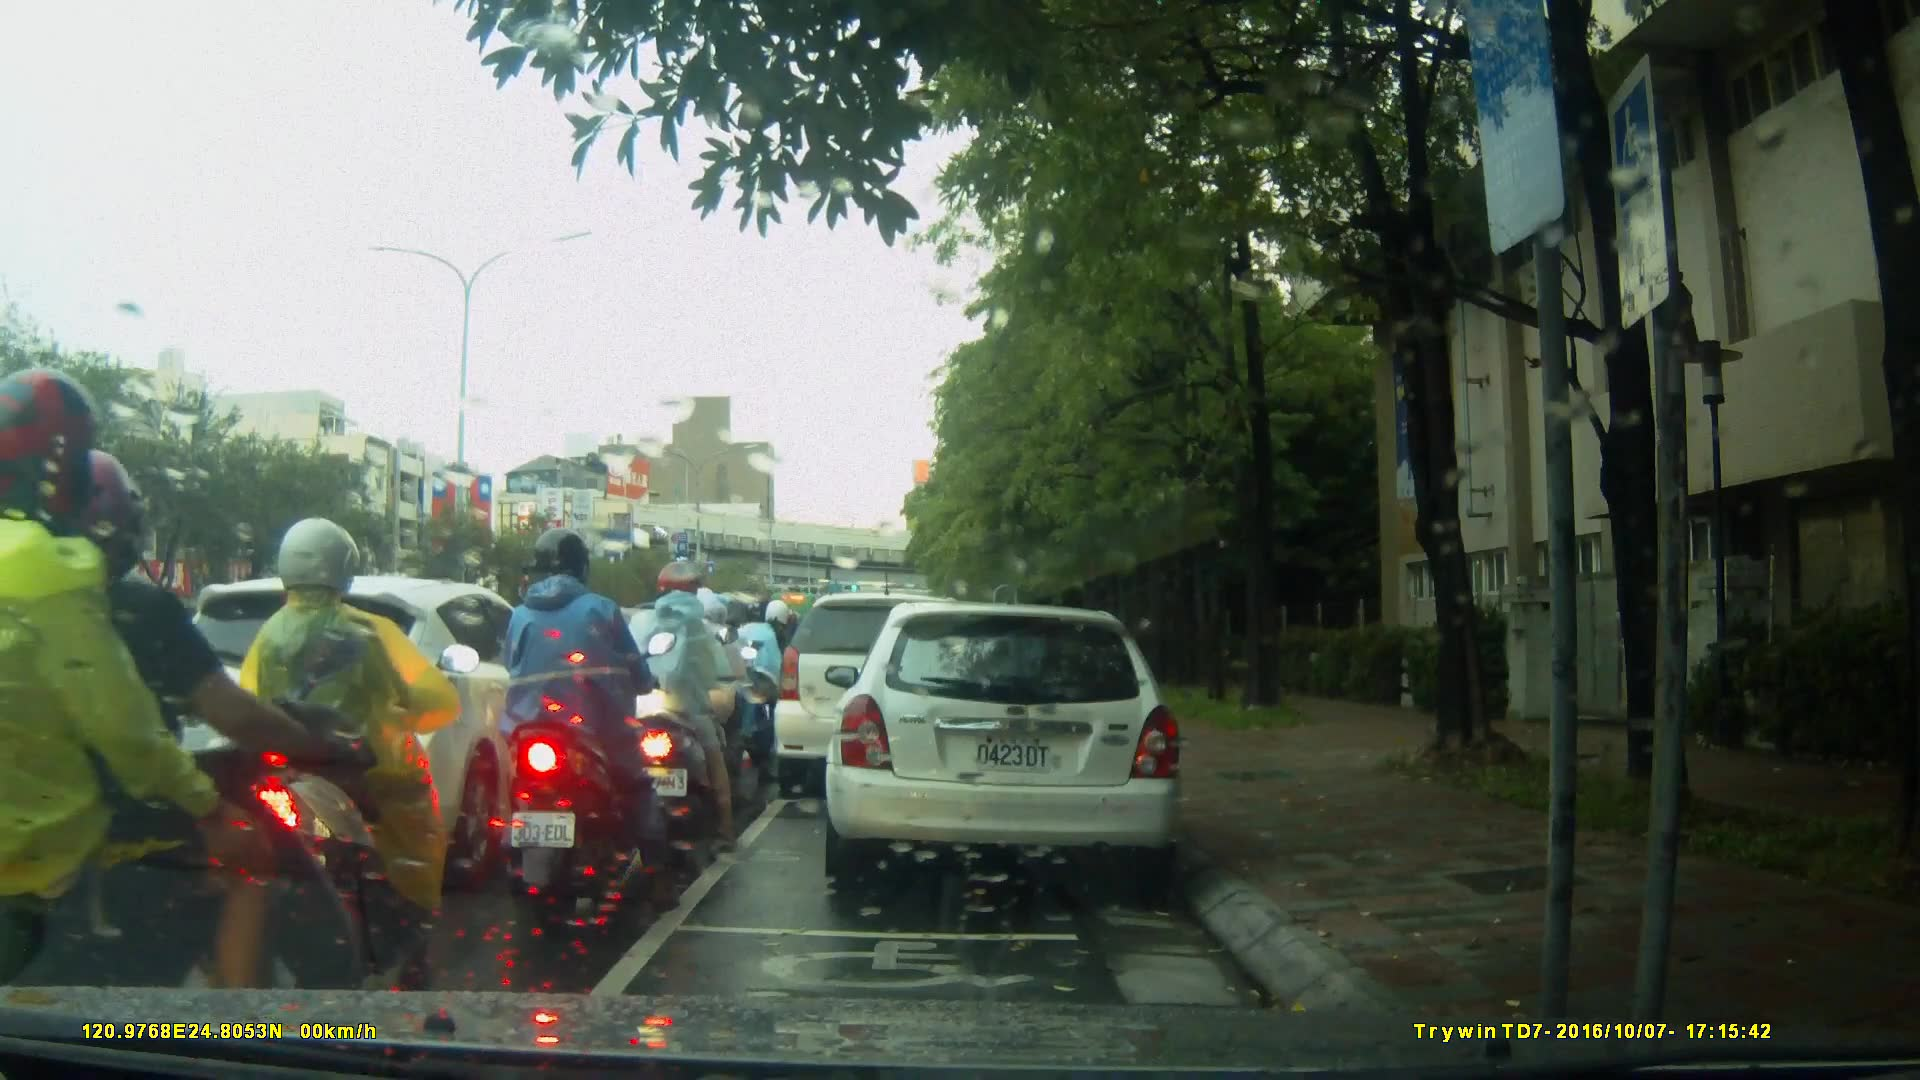rider: (1, 371, 365, 1065), (238, 521, 475, 1000), (497, 528, 682, 913), (610, 560, 736, 846), (652, 584, 762, 823), (733, 597, 794, 755)
vehicle: (149, 574, 598, 866), (822, 604, 1188, 883), (774, 595, 995, 802)
